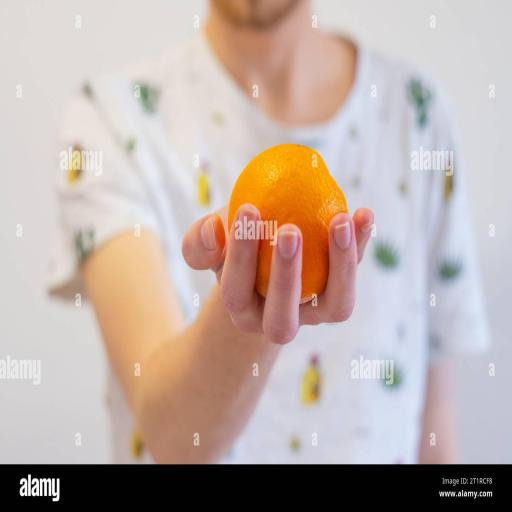orange: (229, 145, 347, 302)
